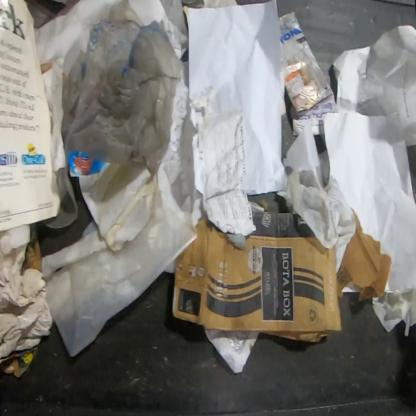cardboard: (170, 211, 342, 346)
soft_plastic: (41, 163, 196, 357), (62, 0, 184, 178), (40, 167, 80, 229)
